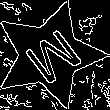M_SE: (14, 21, 85, 89)
